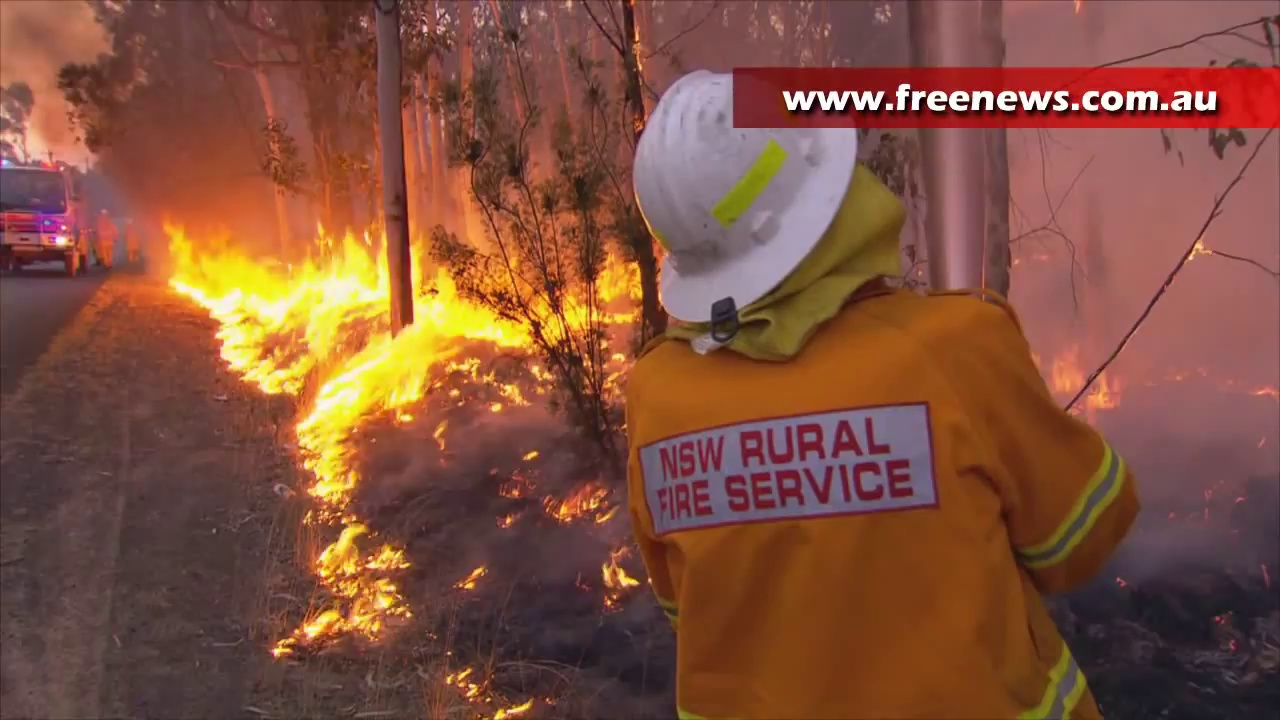fire: (165, 233, 643, 490), (281, 520, 411, 655), (1045, 345, 1120, 414), (447, 669, 533, 720), (547, 481, 611, 524), (602, 559, 639, 595)
